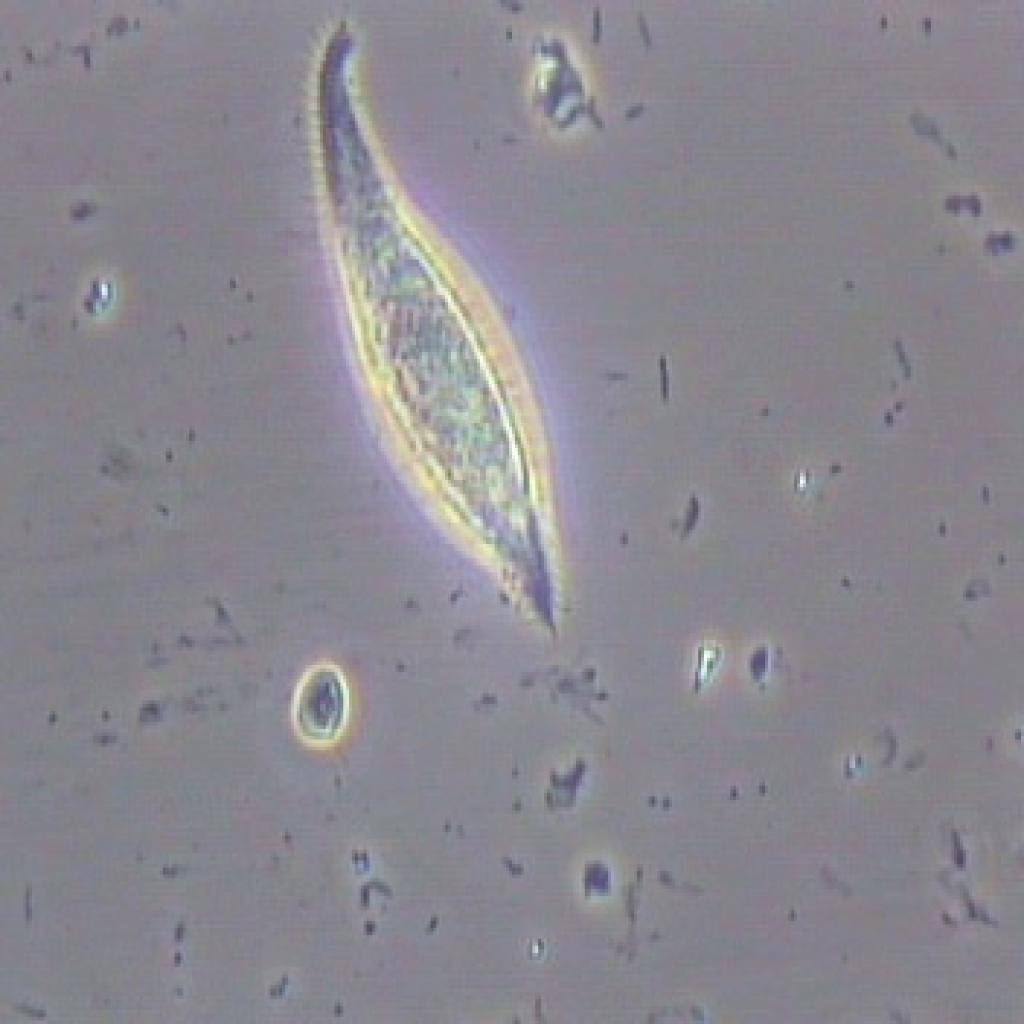Pristina: (257, 6, 563, 638)
